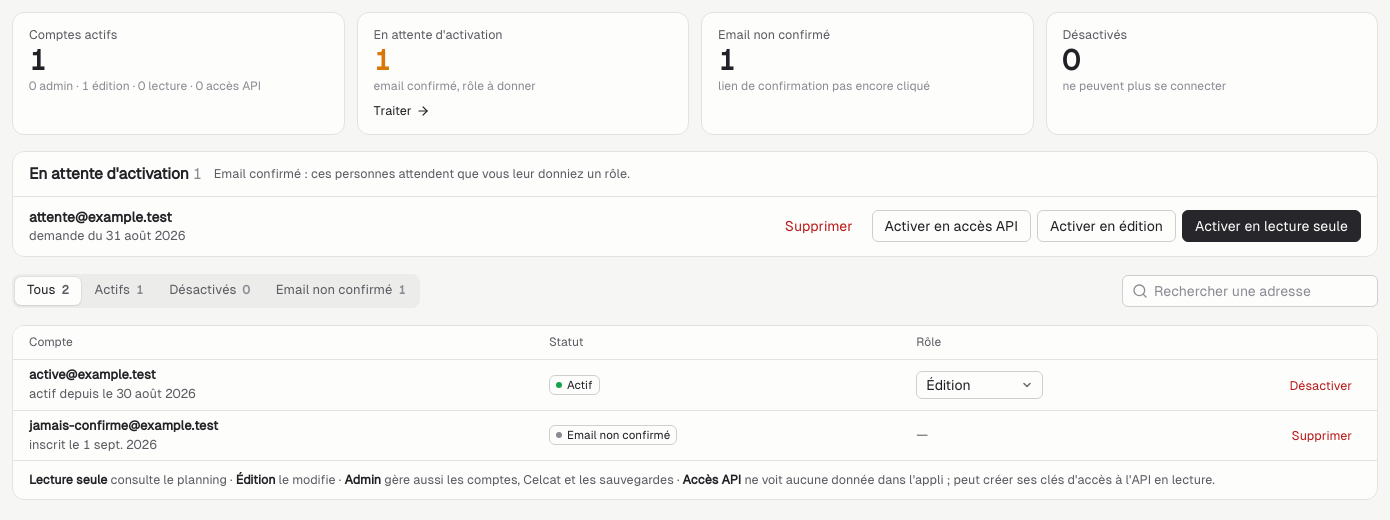
Test: AdminUsersView › should DELETE and remove the row with a one-line confirmation on success
Expected: the text "jamais-confirme@example.test" is shown, [29, 418, 218, 433]
Click the button "Supprimer" in the row of "jamais-confirme@example.test" at (1322, 435), box [1282, 422, 1361, 448]
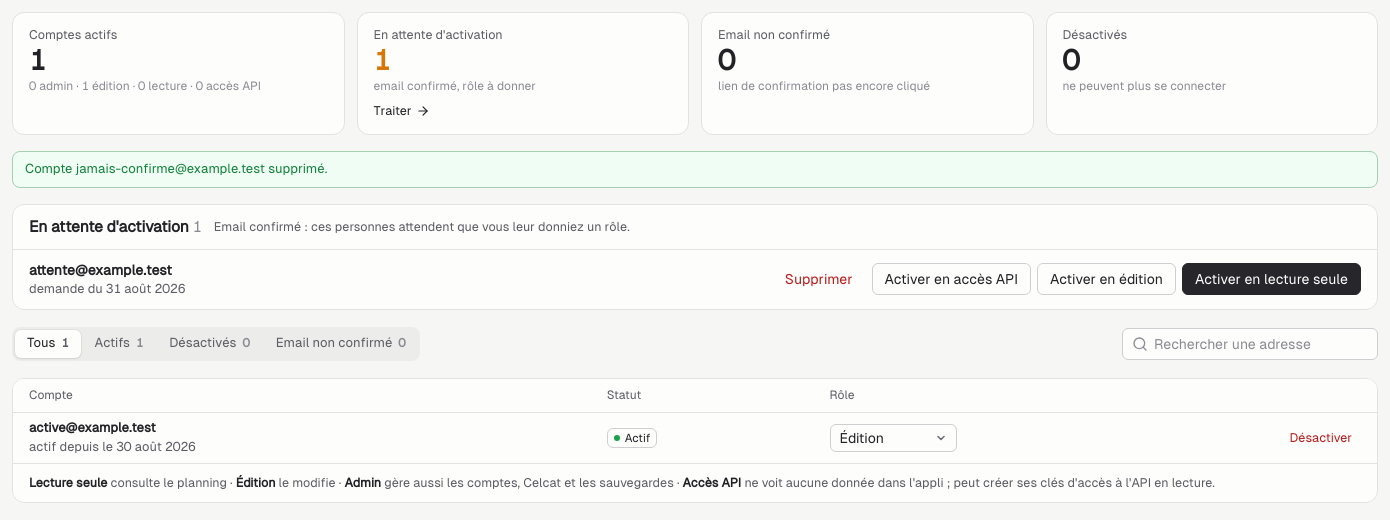
Now the message shows "jamais-confirme@example.test", box [25, 161, 327, 176]
